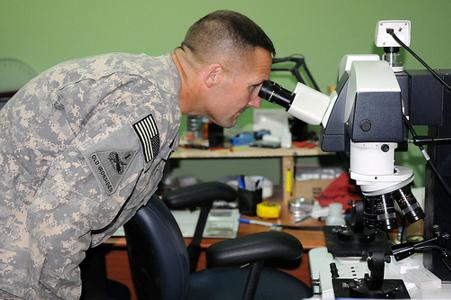person: (3, 8, 275, 300)
